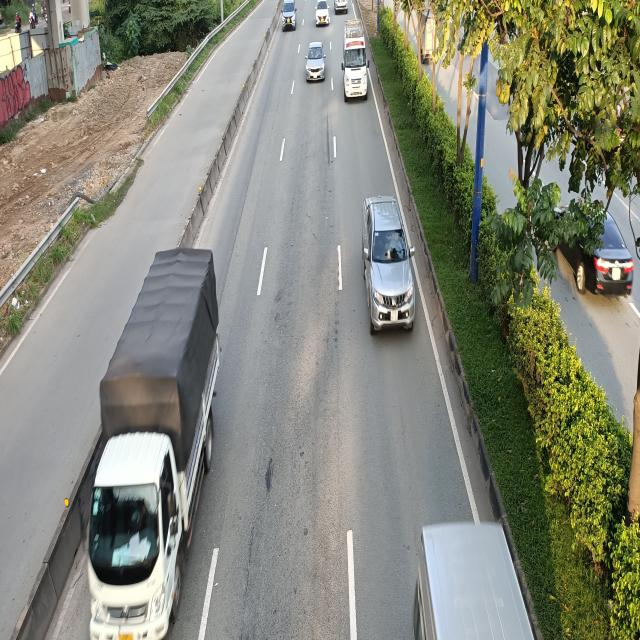car: (362, 198, 415, 337), (306, 42, 328, 83), (281, 0, 297, 31), (315, 0, 329, 26)
truck: (76, 247, 216, 639)
van: (341, 21, 370, 102)
